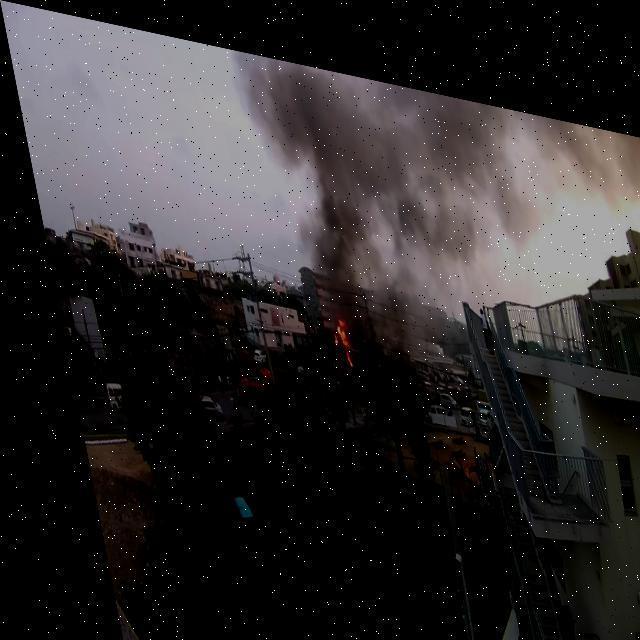Fire: (316, 300, 345, 356)
